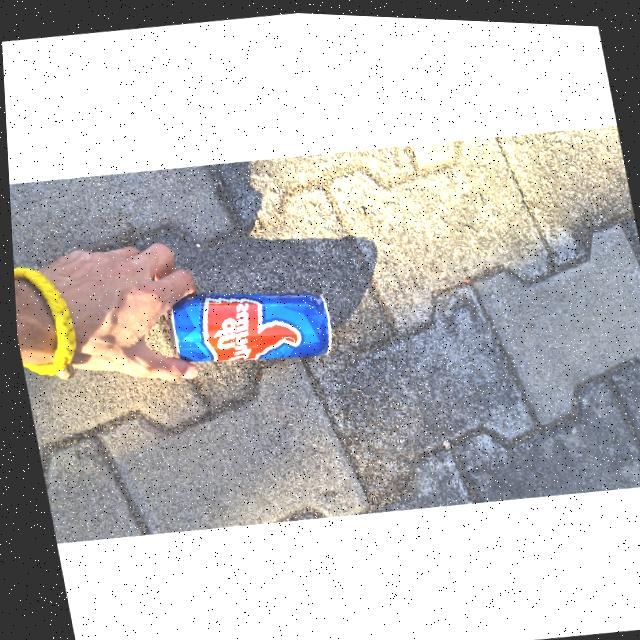Thums Up: (163, 273, 337, 373)
